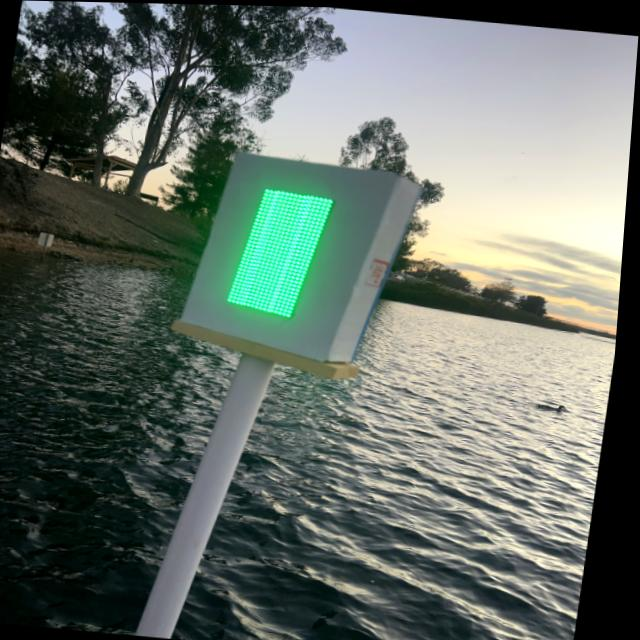led: (214, 175, 361, 334)
